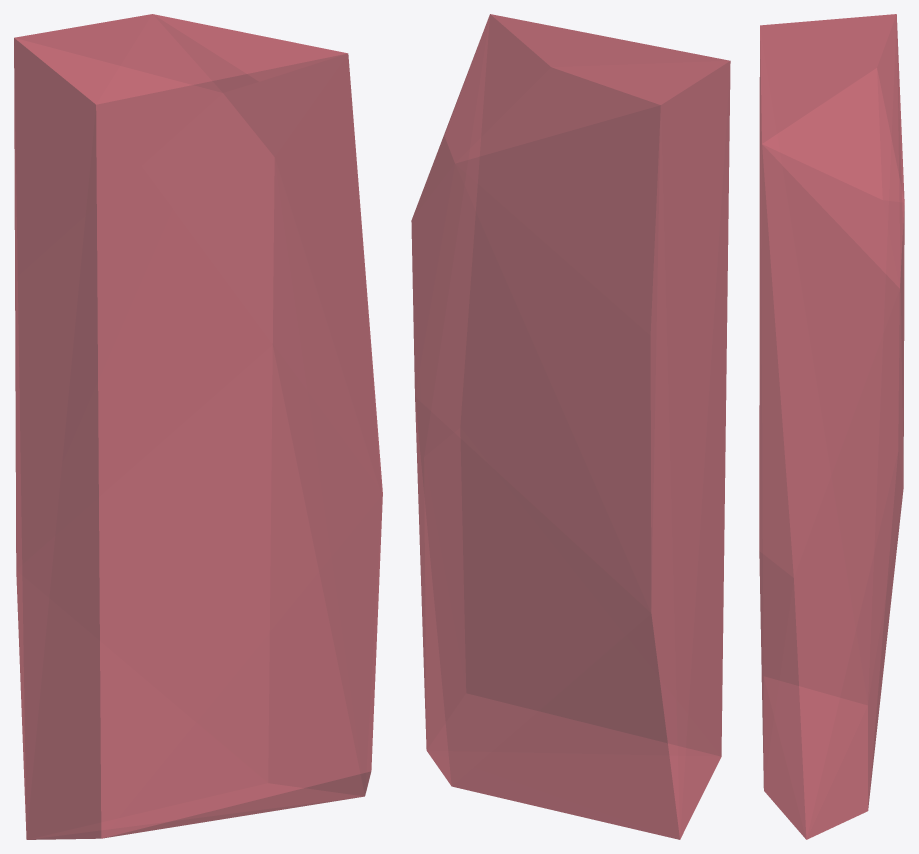
3 views of the same model, side by side, from view 1: azimuth 30°, elevation 25°; view 2: azimuth 150°, elevation 25°; view 3: azimuth 270°, elevation 25° (orthographic). The views are drawn at different scales.
Visible parts, largest first — view 1: Shape_IndexedFaceSet.062_Shape_IndexedFaceSet.885; view 2: Shape_IndexedFaceSet.062_Shape_IndexedFaceSet.885; view 3: Shape_IndexedFaceSet.062_Shape_IndexedFaceSet.885.
Part boxes in pixels (<box>): Shape_IndexedFaceSet.062_Shape_IndexedFaceSet.885: <box>14,14,382,839</box>; Shape_IndexedFaceSet.062_Shape_IndexedFaceSet.885: <box>411,14,730,839</box>; Shape_IndexedFaceSet.062_Shape_IndexedFaceSet.885: <box>759,14,904,839</box>.
Bounding box in the file's own units: 0.246 × 0.5968 × 0.1125.
